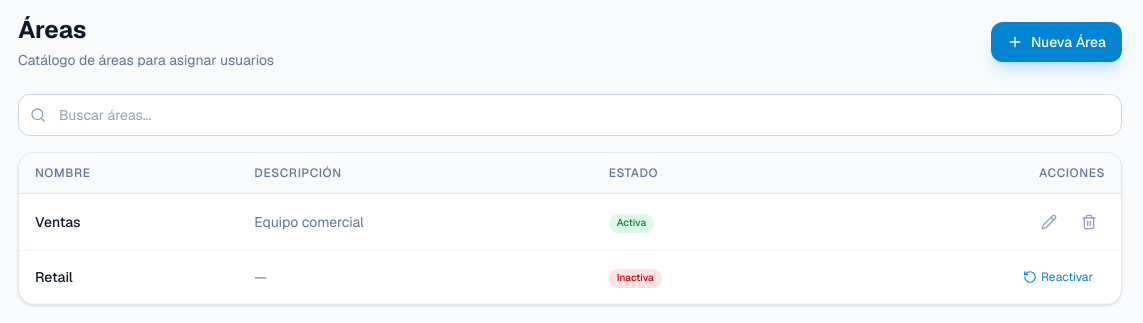
AreasPanel › filters by nombre through the search box
The image size is (1143, 323).
Expected: the text "Ventas" is shown, [19,194,238,250]
Step 1. Type "ven" into the field with placeholder "Buscar áreas..." → [570, 115], box [18,94,1122,136]
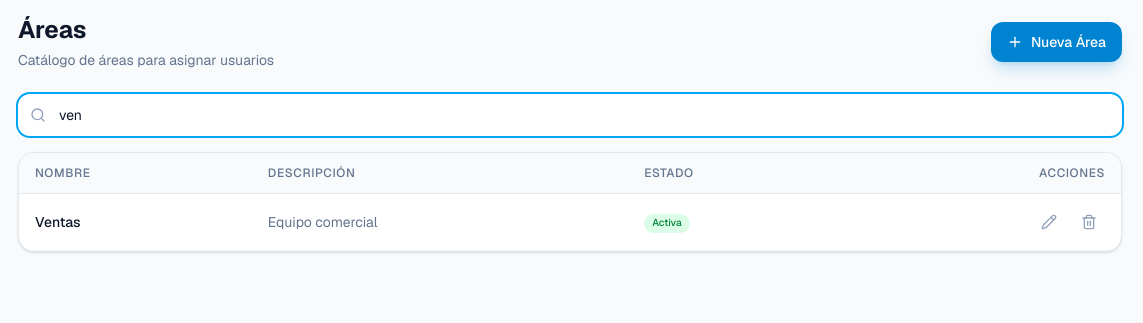
Expected: the text "Ventas" is shown, [19,194,252,250]
Result: the text "Retail" is gone
